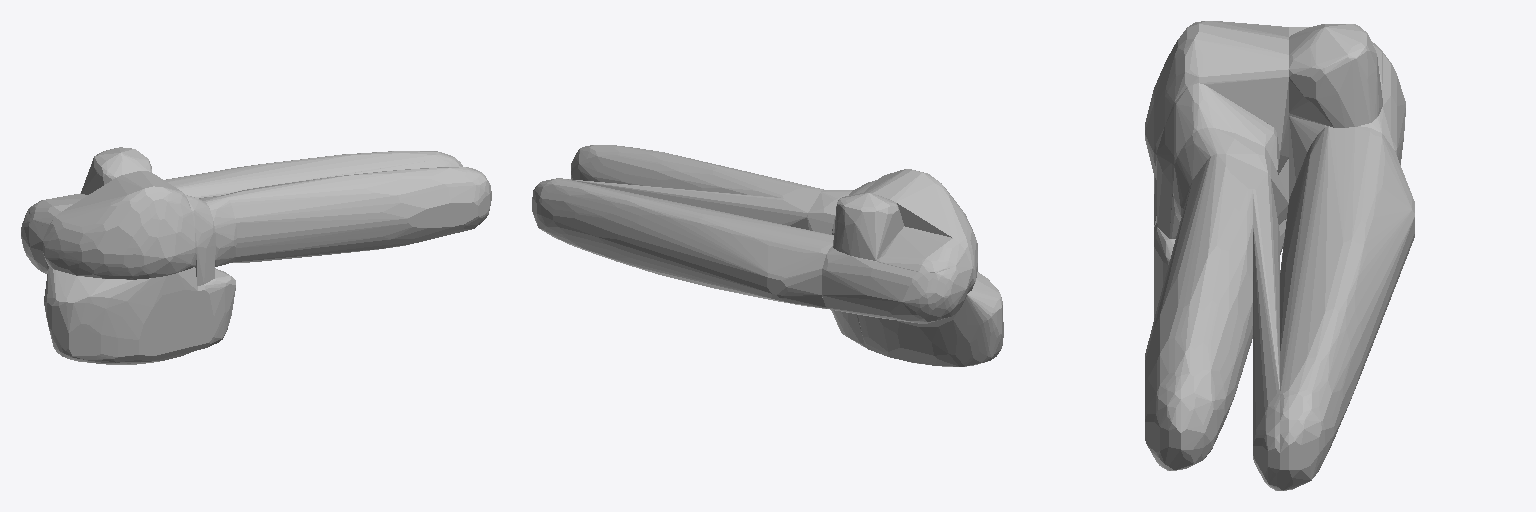
The robot description file, URDF, robot "root":
<robot name="root">
  <link name="link_coacd_convex_piece_0">
    <inertial>
      <origin xyz="0 0 0" rpy="0 0 0"/>
      <inertia ixx="1.33E-03" ixy="1.54E-04" ixz="2.65E-03" iyy="6.51E-03" iyz="-1.61E-04" izz="5.61E-03"/>
    </inertial>
    <visual>
      <origin xyz="0 0 0" rpy="0 0 0"/>
      <geometry>
        <mesh filename="coacd_convex_piece_0.obj" scale="1.0000E+00 1.0000E+00 1.0000E+00"/>
      </geometry>
      <material name="">
        <color rgba="7.50E-01 7.50E-01 7.50E-01 1"/>
      </material>
    </visual>
    <collision>
      <origin xyz="0 0 0" rpy="0 0 0"/>
      <geometry>
        <mesh filename="coacd_convex_piece_0.obj" scale="1.0000E+00 1.0000E+00 1.0000E+00"/>
      </geometry>
    </collision>
  </link>
  <link name="link_coacd_convex_piece_1">
    <inertial>
      <origin xyz="0 0 0" rpy="0 0 0"/>
      <inertia ixx="1.02E-03" ixy="-3.61E-04" ixz="1.04E-04" iyy="5.48E-03" iyz="3.46E-05" izz="4.96E-03"/>
    </inertial>
    <visual>
      <origin xyz="0 0 0" rpy="0 0 0"/>
      <geometry>
        <mesh filename="coacd_convex_piece_1.obj" scale="1.0000E+00 1.0000E+00 1.0000E+00"/>
      </geometry>
      <material name="">
        <color rgba="7.50E-01 7.50E-01 7.50E-01 1"/>
      </material>
    </visual>
    <collision>
      <origin xyz="0 0 0" rpy="0 0 0"/>
      <geometry>
        <mesh filename="coacd_convex_piece_1.obj" scale="1.0000E+00 1.0000E+00 1.0000E+00"/>
      </geometry>
    </collision>
  </link>
  <joint name="link_coacd_convex_piece_1_joint" type="fixed">
    <origin xyz="0 0 0" rpy="0 0 0"/>
    <parent link="link_coacd_convex_piece_0"/>
    <child link="link_coacd_convex_piece_1"/>
  </joint>
  <link name="link_coacd_convex_piece_2">
    <inertial>
      <origin xyz="0 0 0" rpy="0 0 0"/>
      <inertia ixx="3.83E-05" ixy="-8.76E-05" ixz="1.76E-04" iyy="1.69E-03" iyz="-4.61E-06" izz="1.74E-03"/>
    </inertial>
    <visual>
      <origin xyz="0 0 0" rpy="0 0 0"/>
      <geometry>
        <mesh filename="coacd_convex_piece_2.obj" scale="1.0000E+00 1.0000E+00 1.0000E+00"/>
      </geometry>
      <material name="">
        <color rgba="7.50E-01 7.50E-01 7.50E-01 1"/>
      </material>
    </visual>
    <collision>
      <origin xyz="0 0 0" rpy="0 0 0"/>
      <geometry>
        <mesh filename="coacd_convex_piece_2.obj" scale="1.0000E+00 1.0000E+00 1.0000E+00"/>
      </geometry>
    </collision>
  </link>
  <joint name="link_coacd_convex_piece_2_joint" type="fixed">
    <origin xyz="0 0 0" rpy="0 0 0"/>
    <parent link="link_coacd_convex_piece_1"/>
    <child link="link_coacd_convex_piece_2"/>
  </joint>
  <link name="link_coacd_convex_piece_3">
    <inertial>
      <origin xyz="0 0 0" rpy="0 0 0"/>
      <inertia ixx="1.85E-04" ixy="-1.47E-04" ixz="-2.08E-04" iyy="5.18E-04" iyz="-5.78E-05" izz="4.67E-04"/>
    </inertial>
    <visual>
      <origin xyz="0 0 0" rpy="0 0 0"/>
      <geometry>
        <mesh filename="coacd_convex_piece_3.obj" scale="1.0000E+00 1.0000E+00 1.0000E+00"/>
      </geometry>
      <material name="">
        <color rgba="7.50E-01 7.50E-01 7.50E-01 1"/>
      </material>
    </visual>
    <collision>
      <origin xyz="0 0 0" rpy="0 0 0"/>
      <geometry>
        <mesh filename="coacd_convex_piece_3.obj" scale="1.0000E+00 1.0000E+00 1.0000E+00"/>
      </geometry>
    </collision>
  </link>
  <joint name="link_coacd_convex_piece_3_joint" type="fixed">
    <origin xyz="0 0 0" rpy="0 0 0"/>
    <parent link="link_coacd_convex_piece_2"/>
    <child link="link_coacd_convex_piece_3"/>
  </joint>
  <link name="link_coacd_convex_piece_4">
    <inertial>
      <origin xyz="0 0 0" rpy="0 0 0"/>
      <inertia ixx="5.82E-04" ixy="-6.02E-04" ixz="1.96E-03" iyy="8.37E-03" iyz="1.29E-04" izz="8.09E-03"/>
    </inertial>
    <visual>
      <origin xyz="0 0 0" rpy="0 0 0"/>
      <geometry>
        <mesh filename="coacd_convex_piece_4.obj" scale="1.0000E+00 1.0000E+00 1.0000E+00"/>
      </geometry>
      <material name="">
        <color rgba="7.50E-01 7.50E-01 7.50E-01 1"/>
      </material>
    </visual>
    <collision>
      <origin xyz="0 0 0" rpy="0 0 0"/>
      <geometry>
        <mesh filename="coacd_convex_piece_4.obj" scale="1.0000E+00 1.0000E+00 1.0000E+00"/>
      </geometry>
    </collision>
  </link>
  <joint name="link_coacd_convex_piece_4_joint" type="fixed">
    <origin xyz="0 0 0" rpy="0 0 0"/>
    <parent link="link_coacd_convex_piece_3"/>
    <child link="link_coacd_convex_piece_4"/>
  </joint>
  <link name="link_coacd_convex_piece_5">
    <inertial>
      <origin xyz="0 0 0" rpy="0 0 0"/>
      <inertia ixx="4.00E-04" ixy="-6.36E-04" ixz="3.42E-04" iyy="1.16E-03" iyz="1.46E-04" izz="1.41E-03"/>
    </inertial>
    <visual>
      <origin xyz="0 0 0" rpy="0 0 0"/>
      <geometry>
        <mesh filename="coacd_convex_piece_5.obj" scale="1.0000E+00 1.0000E+00 1.0000E+00"/>
      </geometry>
      <material name="">
        <color rgba="7.50E-01 7.50E-01 7.50E-01 1"/>
      </material>
    </visual>
    <collision>
      <origin xyz="0 0 0" rpy="0 0 0"/>
      <geometry>
        <mesh filename="coacd_convex_piece_5.obj" scale="1.0000E+00 1.0000E+00 1.0000E+00"/>
      </geometry>
    </collision>
  </link>
  <joint name="link_coacd_convex_piece_5_joint" type="fixed">
    <origin xyz="0 0 0" rpy="0 0 0"/>
    <parent link="link_coacd_convex_piece_4"/>
    <child link="link_coacd_convex_piece_5"/>
  </joint>
  <link name="link_coacd_convex_piece_6">
    <inertial>
      <origin xyz="0 0 0" rpy="0 0 0"/>
      <inertia ixx="7.02E-05" ixy="-2.07E-04" ixz="1.25E-04" iyy="7.64E-04" iyz="2.81E-05" izz="8.00E-04"/>
    </inertial>
    <visual>
      <origin xyz="0 0 0" rpy="0 0 0"/>
      <geometry>
        <mesh filename="coacd_convex_piece_6.obj" scale="1.0000E+00 1.0000E+00 1.0000E+00"/>
      </geometry>
      <material name="">
        <color rgba="7.50E-01 7.50E-01 7.50E-01 1"/>
      </material>
    </visual>
    <collision>
      <origin xyz="0 0 0" rpy="0 0 0"/>
      <geometry>
        <mesh filename="coacd_convex_piece_6.obj" scale="1.0000E+00 1.0000E+00 1.0000E+00"/>
      </geometry>
    </collision>
  </link>
  <joint name="link_coacd_convex_piece_6_joint" type="fixed">
    <origin xyz="0 0 0" rpy="0 0 0"/>
    <parent link="link_coacd_convex_piece_5"/>
    <child link="link_coacd_convex_piece_6"/>
  </joint>
  <link name="link_coacd_convex_piece_7">
    <inertial>
      <origin xyz="0 0 0" rpy="0 0 0"/>
      <inertia ixx="6.03E-04" ixy="5.04E-04" ixz="-3.39E-04" iyy="7.06E-04" iyz="2.65E-04" izz="8.43E-04"/>
    </inertial>
    <visual>
      <origin xyz="0 0 0" rpy="0 0 0"/>
      <geometry>
        <mesh filename="coacd_convex_piece_7.obj" scale="1.0000E+00 1.0000E+00 1.0000E+00"/>
      </geometry>
      <material name="">
        <color rgba="7.50E-01 7.50E-01 7.50E-01 1"/>
      </material>
    </visual>
    <collision>
      <origin xyz="0 0 0" rpy="0 0 0"/>
      <geometry>
        <mesh filename="coacd_convex_piece_7.obj" scale="1.0000E+00 1.0000E+00 1.0000E+00"/>
      </geometry>
    </collision>
  </link>
  <joint name="link_coacd_convex_piece_7_joint" type="fixed">
    <origin xyz="0 0 0" rpy="0 0 0"/>
    <parent link="link_coacd_convex_piece_6"/>
    <child link="link_coacd_convex_piece_7"/>
  </joint>
  <link name="link_coacd_convex_piece_8">
    <inertial>
      <origin xyz="0 0 0" rpy="0 0 0"/>
      <inertia ixx="2.05E-03" ixy="3.54E-03" ixz="-2.57E-03" iyy="1.39E-02" iyz="7.90E-04" izz="1.45E-02"/>
    </inertial>
    <visual>
      <origin xyz="0 0 0" rpy="0 0 0"/>
      <geometry>
        <mesh filename="coacd_convex_piece_8.obj" scale="1.0000E+00 1.0000E+00 1.0000E+00"/>
      </geometry>
      <material name="">
        <color rgba="7.50E-01 7.50E-01 7.50E-01 1"/>
      </material>
    </visual>
    <collision>
      <origin xyz="0 0 0" rpy="0 0 0"/>
      <geometry>
        <mesh filename="coacd_convex_piece_8.obj" scale="1.0000E+00 1.0000E+00 1.0000E+00"/>
      </geometry>
    </collision>
  </link>
  <joint name="link_coacd_convex_piece_8_joint" type="fixed">
    <origin xyz="0 0 0" rpy="0 0 0"/>
    <parent link="link_coacd_convex_piece_7"/>
    <child link="link_coacd_convex_piece_8"/>
  </joint>
  <link name="link_coacd_convex_piece_9">
    <inertial>
      <origin xyz="0 0 0" rpy="0 0 0"/>
      <inertia ixx="1.20E-03" ixy="-2.22E-03" ixz="-1.44E-03" iyy="8.50E-03" iyz="-4.36E-04" izz="8.78E-03"/>
    </inertial>
    <visual>
      <origin xyz="0 0 0" rpy="0 0 0"/>
      <geometry>
        <mesh filename="coacd_convex_piece_9.obj" scale="1.0000E+00 1.0000E+00 1.0000E+00"/>
      </geometry>
      <material name="">
        <color rgba="7.50E-01 7.50E-01 7.50E-01 1"/>
      </material>
    </visual>
    <collision>
      <origin xyz="0 0 0" rpy="0 0 0"/>
      <geometry>
        <mesh filename="coacd_convex_piece_9.obj" scale="1.0000E+00 1.0000E+00 1.0000E+00"/>
      </geometry>
    </collision>
  </link>
  <joint name="link_coacd_convex_piece_9_joint" type="fixed">
    <origin xyz="0 0 0" rpy="0 0 0"/>
    <parent link="link_coacd_convex_piece_8"/>
    <child link="link_coacd_convex_piece_9"/>
  </joint>
  <link name="link_coacd_convex_piece_10">
    <inertial>
      <origin xyz="0 0 0" rpy="0 0 0"/>
      <inertia ixx="1.04E-04" ixy="-7.12E-05" ixz="-8.07E-05" iyy="1.30E-04" iyz="-3.45E-05" izz="1.04E-04"/>
    </inertial>
    <visual>
      <origin xyz="0 0 0" rpy="0 0 0"/>
      <geometry>
        <mesh filename="coacd_convex_piece_10.obj" scale="1.0000E+00 1.0000E+00 1.0000E+00"/>
      </geometry>
      <material name="">
        <color rgba="7.50E-01 7.50E-01 7.50E-01 1"/>
      </material>
    </visual>
    <collision>
      <origin xyz="0 0 0" rpy="0 0 0"/>
      <geometry>
        <mesh filename="coacd_convex_piece_10.obj" scale="1.0000E+00 1.0000E+00 1.0000E+00"/>
      </geometry>
    </collision>
  </link>
  <joint name="link_coacd_convex_piece_10_joint" type="fixed">
    <origin xyz="0 0 0" rpy="0 0 0"/>
    <parent link="link_coacd_convex_piece_9"/>
    <child link="link_coacd_convex_piece_10"/>
  </joint>
</robot>

--- What the picture shows (computed from the rendered views, not written in the file) ---
3 views of the same robot in one strip: view 1: azimuth 30°, elevation 25°; view 2: azimuth 150°, elevation 25°; view 3: azimuth 270°, elevation 25° (orthographic).
Robot: root — 11 links, 10 joints (10 fixed); root link link_coacd_convex_piece_0; default pose: every joint at zero.
Visible links, largest first — view 1: link_coacd_convex_piece_0, link_coacd_convex_piece_9, link_coacd_convex_piece_8, link_coacd_convex_piece_1, link_coacd_convex_piece_7, link_coacd_convex_piece_5, link_coacd_convex_piece_3, link_coacd_convex_piece_10, link_coacd_convex_piece_4, link_coacd_convex_piece_6, link_coacd_convex_piece_2; view 2: link_coacd_convex_piece_1, link_coacd_convex_piece_4, link_coacd_convex_piece_8, link_coacd_convex_piece_0, link_coacd_convex_piece_9, link_coacd_convex_piece_5, link_coacd_convex_piece_2, link_coacd_convex_piece_6, link_coacd_convex_piece_10, link_coacd_convex_piece_7; view 3: link_coacd_convex_piece_1, link_coacd_convex_piece_0, link_coacd_convex_piece_9, link_coacd_convex_piece_5, link_coacd_convex_piece_2, link_coacd_convex_piece_3, link_coacd_convex_piece_10, link_coacd_convex_piece_4, link_coacd_convex_piece_7.
Link boxes in pixels (x1=…): link_coacd_convex_piece_0: x1=222, y1=167, x2=491, y2=262; link_coacd_convex_piece_9: x1=43, y1=171, x2=196, y2=279; link_coacd_convex_piece_8: x1=44, y1=266, x2=197, y2=364; link_coacd_convex_piece_1: x1=164, y1=151, x2=462, y2=198; link_coacd_convex_piece_7: x1=196, y1=268, x2=235, y2=350; link_coacd_convex_piece_5: x1=81, y1=147, x2=151, y2=194; link_coacd_convex_piece_3: x1=185, y1=195, x2=215, y2=285; link_coacd_convex_piece_10: x1=199, y1=195, x2=236, y2=266; link_coacd_convex_piece_4: x1=21, y1=193, x2=80, y2=273; link_coacd_convex_piece_6: x1=28, y1=194, x2=87, y2=228; link_coacd_convex_piece_2: x1=221, y1=159, x2=461, y2=195; link_coacd_convex_piece_1: x1=532, y1=178, x2=833, y2=308; link_coacd_convex_piece_4: x1=822, y1=246, x2=972, y2=323; link_coacd_convex_piece_8: x1=858, y1=272, x2=1003, y2=366; link_coacd_convex_piece_0: x1=571, y1=145, x2=823, y2=204; link_coacd_convex_piece_9: x1=864, y1=169, x2=977, y2=292; link_coacd_convex_piece_5: x1=833, y1=193, x2=903, y2=260; link_coacd_convex_piece_2: x1=568, y1=179, x2=812, y2=229; link_coacd_convex_piece_6: x1=876, y1=226, x2=966, y2=272; link_coacd_convex_piece_10: x1=807, y1=190, x2=852, y2=234; link_coacd_convex_piece_7: x1=831, y1=310, x2=865, y2=347; link_coacd_convex_piece_1: x1=1280, y1=126, x2=1414, y2=490; link_coacd_convex_piece_0: x1=1145, y1=154, x2=1252, y2=470; link_coacd_convex_piece_9: x1=1145, y1=21, x2=1288, y2=179; link_coacd_convex_piece_5: x1=1289, y1=24, x2=1382, y2=127; link_coacd_convex_piece_2: x1=1253, y1=166, x2=1279, y2=490; link_coacd_convex_piece_3: x1=1156, y1=83, x2=1279, y2=238; link_coacd_convex_piece_10: x1=1173, y1=128, x2=1288, y2=224; link_coacd_convex_piece_4: x1=1289, y1=49, x2=1405, y2=198; link_coacd_convex_piece_7: x1=1154, y1=223, x2=1175, y2=317.
Bounding box of the posed robot: 1.91 × 0.6215 × 0.7458 m (x, y, z).
Meshes: 11 distinct files referenced, 11 mesh visuals loaded (11 OBJ).
